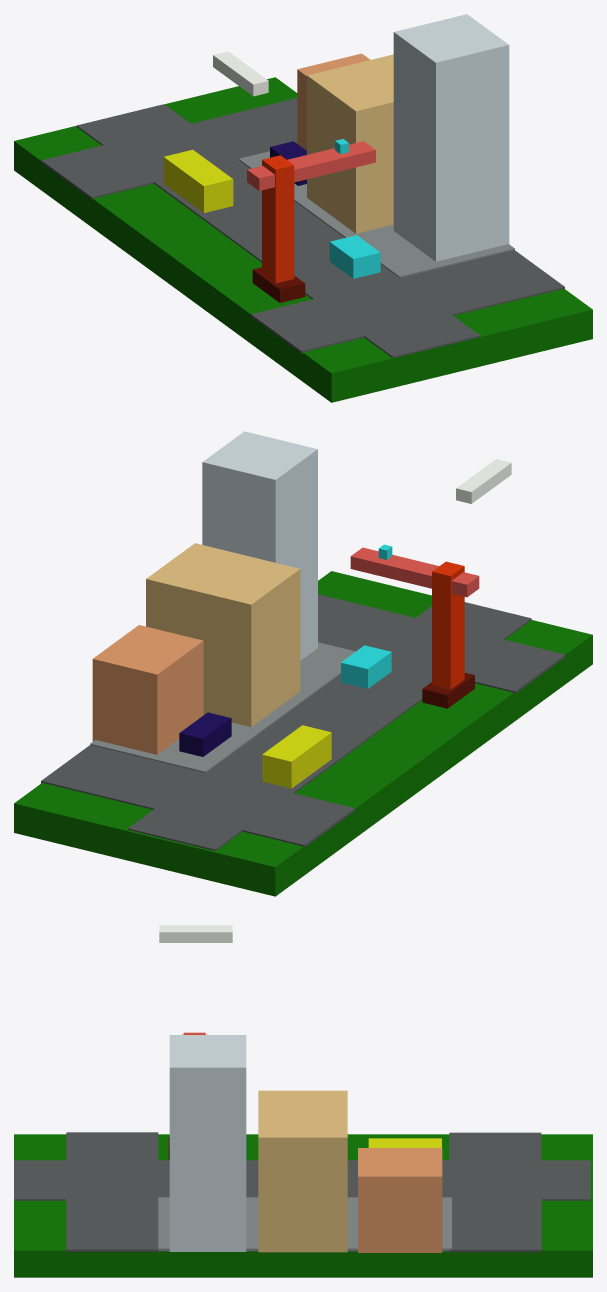
File: lvl1ed.glb
3 views of the same model, one above another, from view 1: azimuth 30°, elevation 25°; view 2: azimuth 150°, elevation 25°; view 3: azimuth 270°, elevation 25° (orthographic). The views are drawn at different scales.
Parts seen in each view (by area): view 1: Cube, Cube.005, Cube.013, Cube.015, Cube.004, Cube.014, Cube.012, Cube.010, Cube.009, Cube.011, Cube.002, Cube.003 (+3 smaller); view 2: Cube, Cube.004, Cube.013, Cube.005, Cube.014, Cube.003, Cube.015, Cube.012, Cube.010, Cube.009, Cube.011, Cube.002 (+3 smaller); view 3: Cube, Cube.005, Cube.004, Cube.013, Cube.015, Cube.003, Cube.014, Cube.012, Cube.008, Cube.009.
Part boxes in pixels (x1,y1,x2,y2): Cube: [14, 77, 592, 402]; Cube.005: [393, 14, 509, 261]; Cube.013: [76, 104, 480, 358]; Cube.015: [251, 250, 564, 353]; Cube.004: [307, 54, 393, 233]; Cube.014: [41, 98, 297, 199]; Cube.012: [238, 151, 514, 277]; Cube.010: [262, 155, 294, 283]; Cube.009: [163, 149, 233, 212]; Cube.011: [247, 141, 375, 190]; Cube.002: [329, 235, 380, 278]; Cube.003: [297, 53, 370, 150]; Cube: [14, 571, 592, 896]; Cube.004: [146, 543, 300, 726]; Cube.013: [128, 602, 531, 851]; Cube.005: [202, 431, 317, 660]; Cube.014: [41, 745, 354, 847]; Cube.003: [92, 625, 203, 754]; Cube.015: [318, 594, 565, 693]; Cube.012: [90, 642, 355, 772]; Cube.010: [432, 561, 464, 689]; Cube.009: [262, 725, 331, 788]; Cube.011: [350, 547, 479, 597]; Cube.002: [341, 645, 391, 688]; Cube: [14, 1134, 592, 1277]; Cube.005: [169, 1035, 246, 1251]; Cube.004: [258, 1090, 347, 1252]; Cube.013: [14, 1160, 590, 1200]; Cube.015: [66, 1132, 158, 1251]; Cube.003: [358, 1148, 442, 1252]; Cube.014: [449, 1132, 541, 1252]; Cube.012: [158, 1197, 451, 1251]; Cube.008: [159, 925, 232, 942]; Cube.009: [368, 1138, 441, 1147].
Bounding box in the file's own units: 209 × 194 × 431.
